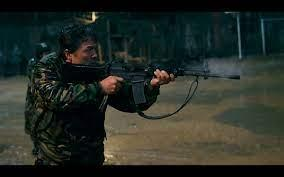rifle: (58, 56, 244, 111)
